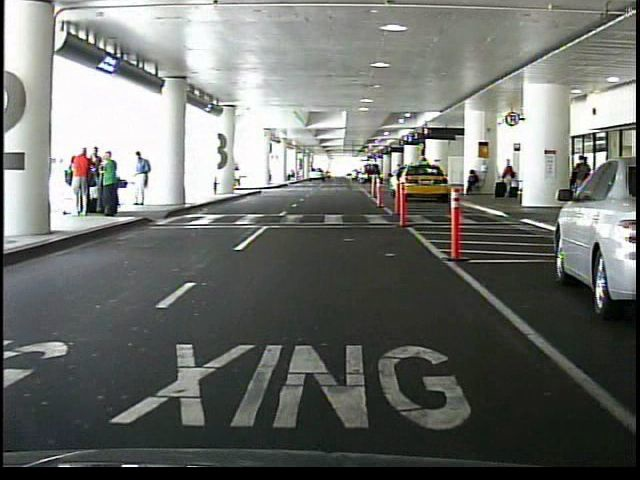person: (72, 143, 94, 217), (103, 152, 122, 221), (133, 152, 154, 210), (572, 153, 593, 208), (92, 146, 107, 211), (501, 160, 517, 202), (463, 170, 480, 198)
